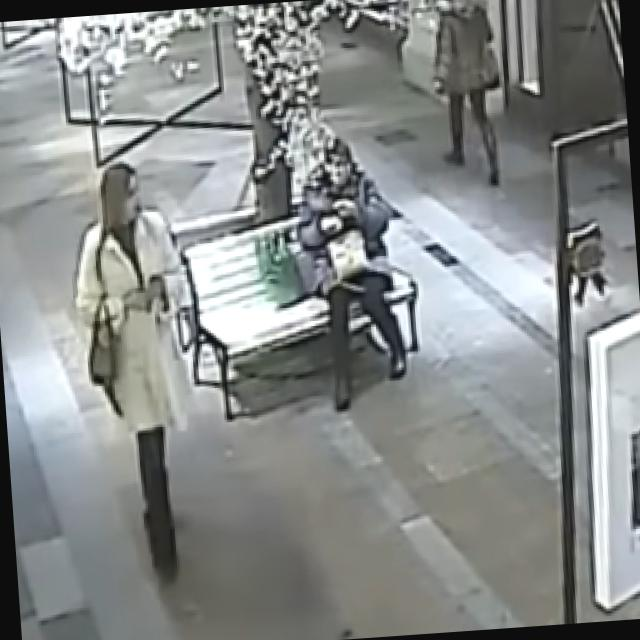person: (64, 158, 210, 606), (287, 134, 408, 413), (427, 0, 508, 186)
